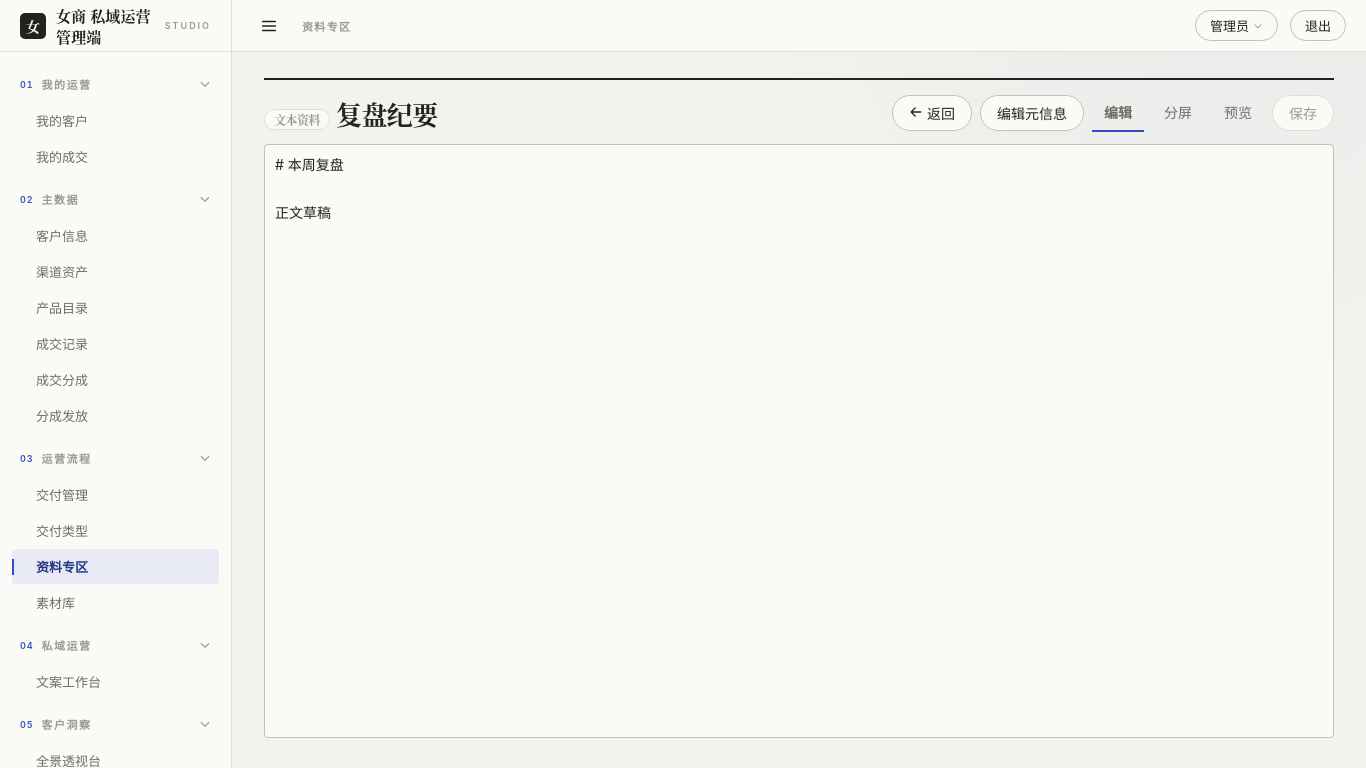
Test: 资料全文编辑页 › 保存：PATCH 带 content + updatedAt（OCC），成功后清 dirty
Step 1. Replace the text in the text box named "正文内容" with "改后的正文" → (799, 441), box [264,144,1334,738]
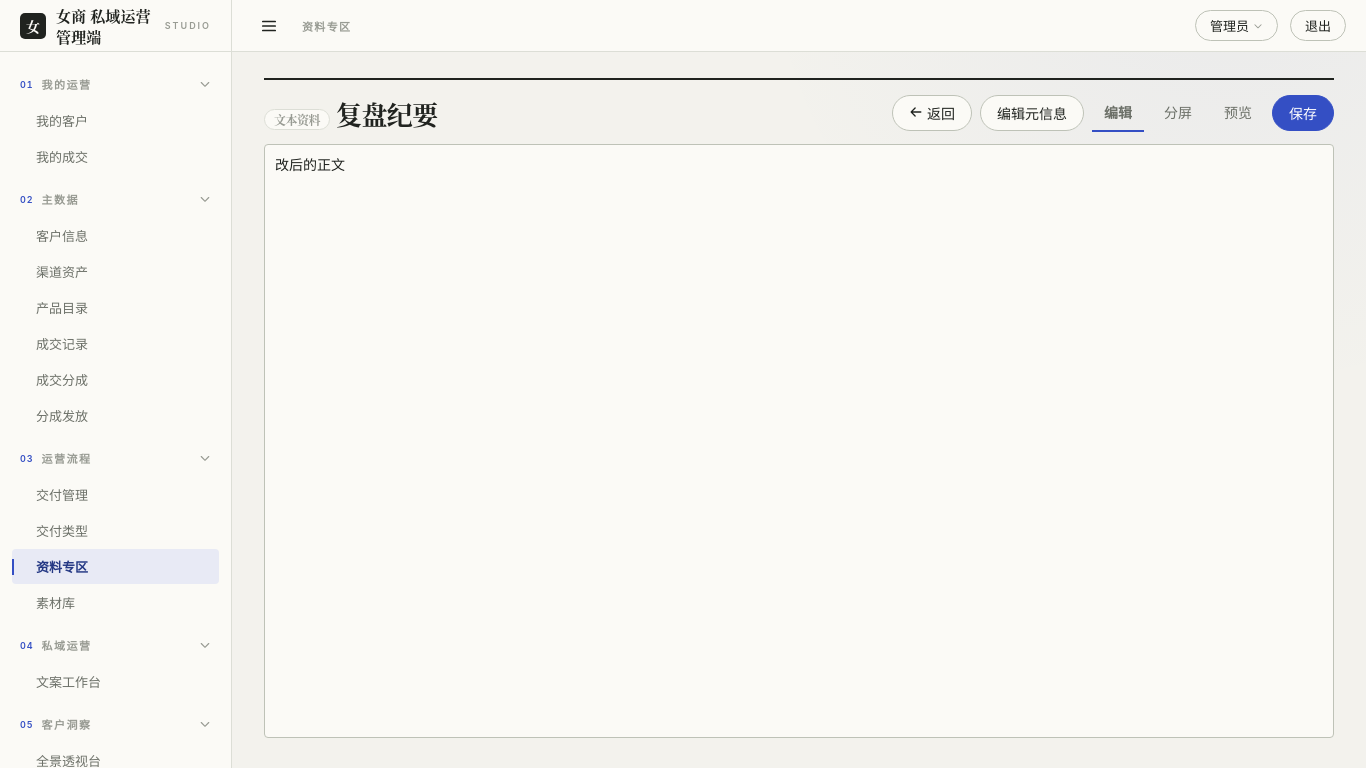
Step 2. Click the button "保存" → (1303, 113), box [1272,95,1334,131]
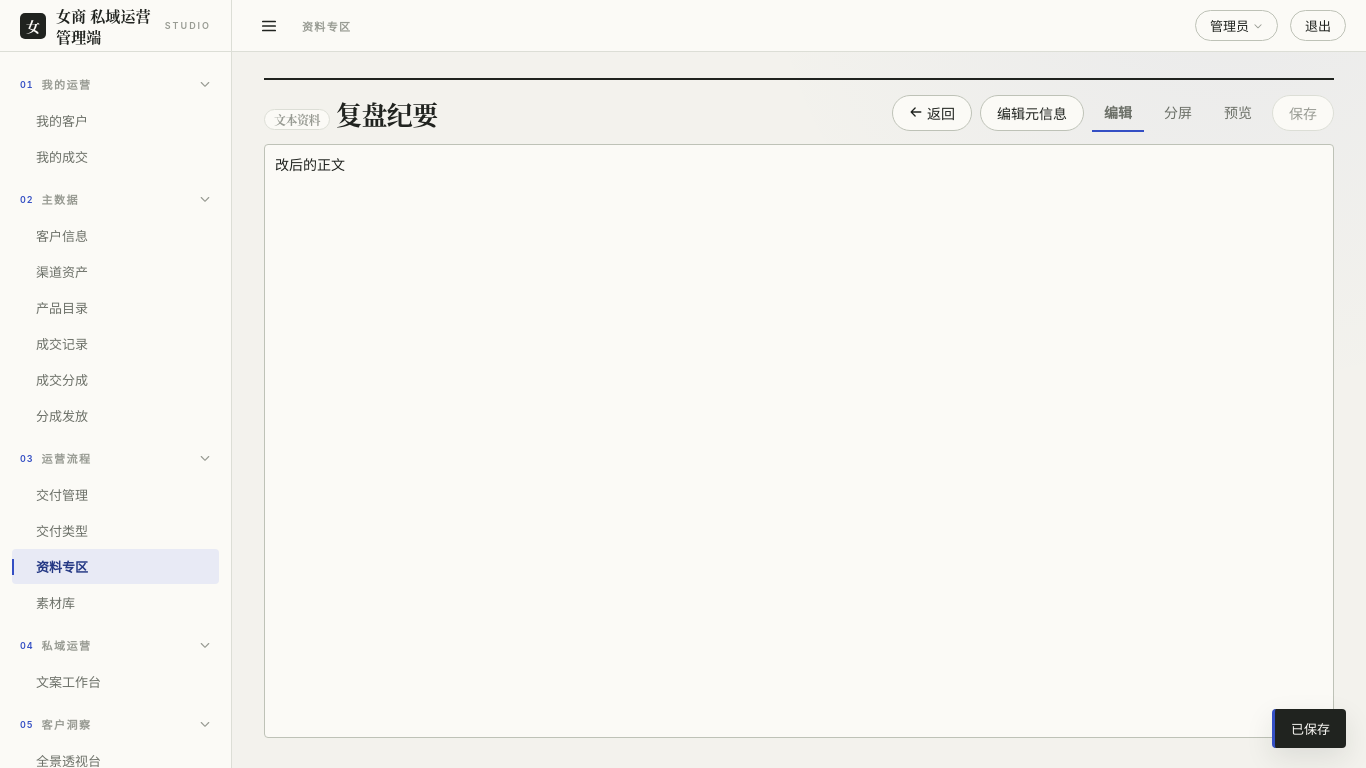
Now the text "已保存" is shown, box [1272,709,1346,748]
Now the button "保存" is disabled, box [1272,95,1334,131]
